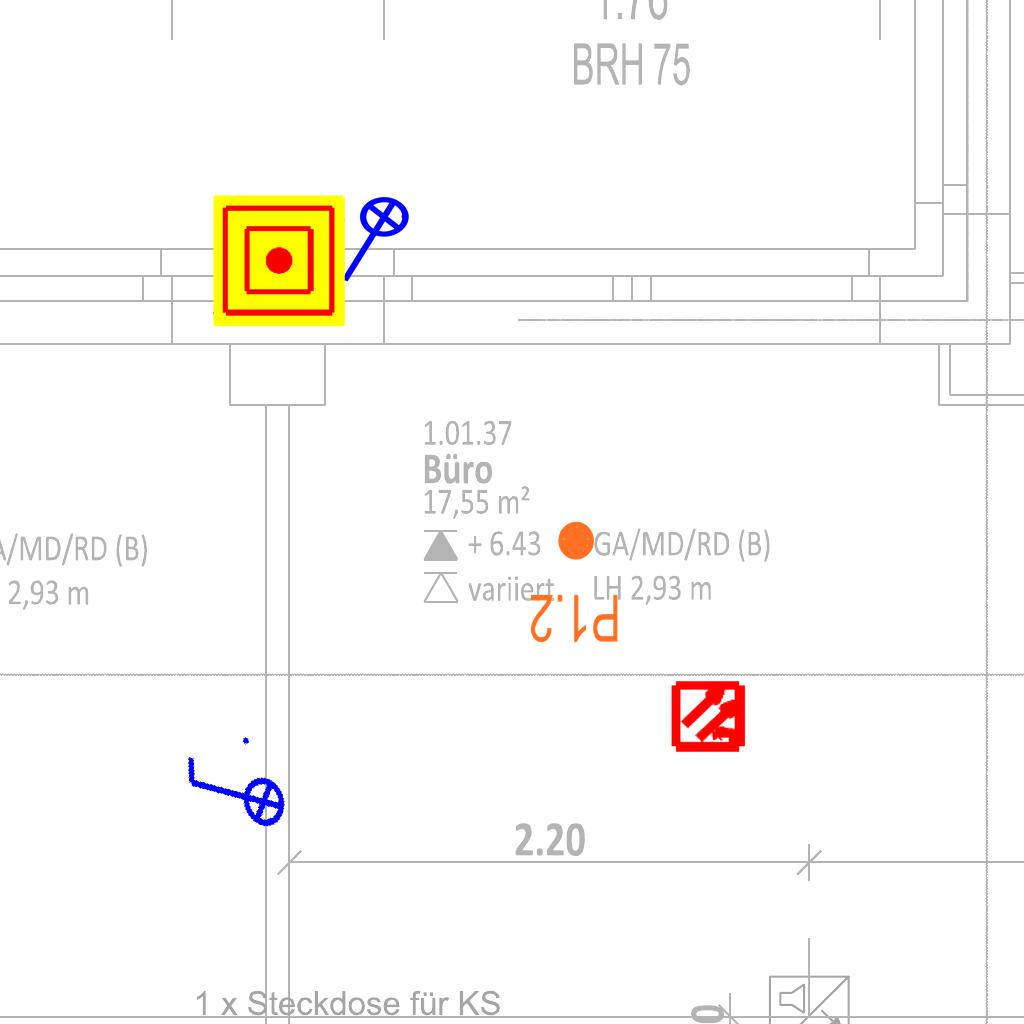Ausschalter_beleuchtet: (171, 725, 297, 861), (311, 195, 423, 291)
Downlight_LED_Einbauleuchten_Flur: (528, 518, 621, 646)
NAM-Nichtautomatischer_Melder: (213, 195, 345, 327)
OT_Multisensormelder_(Kombination_RMO_WMD): (654, 660, 767, 773)
